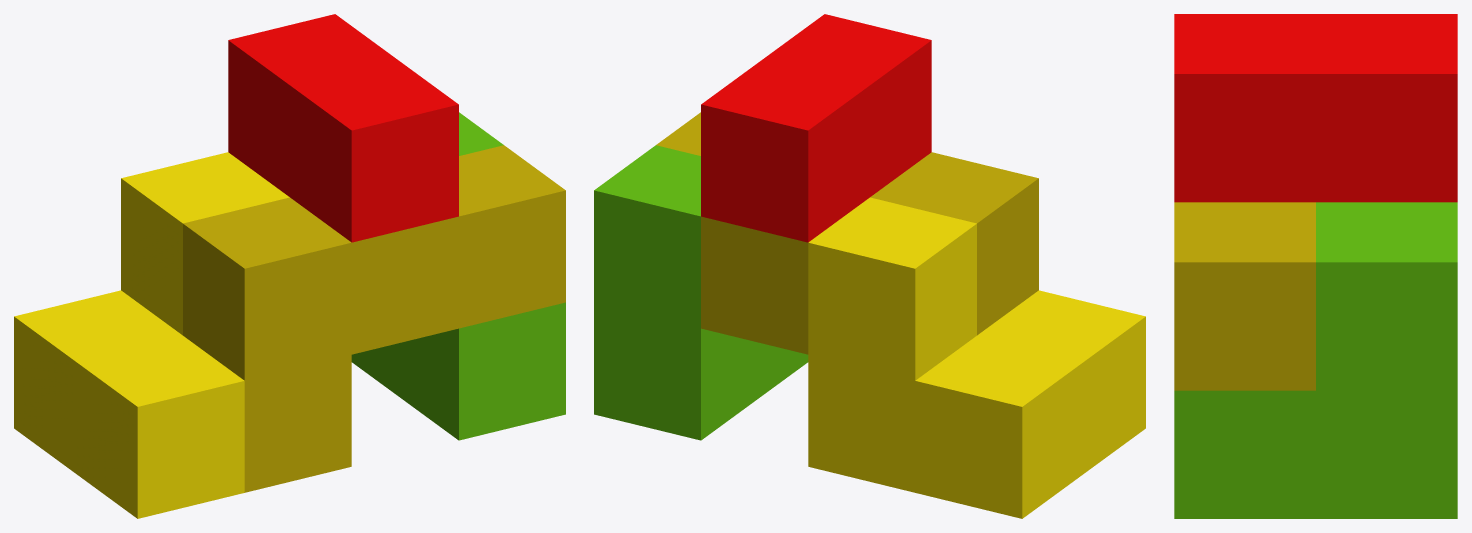
3 renders of one model, left to right at view 1: azimuth 30°, elevation 25°; view 2: azimuth 150°, elevation 25°; view 3: azimuth 270°, elevation 25°, orthographic. The views are drawn at different scales.
Visible parts, largest first — view 1: mergedBlocks(Clone); view 2: mergedBlocks(Clone); view 3: mergedBlocks(Clone).
Part boxes in pixels (box(x1,y1,x2,y2)): mergedBlocks(Clone): box(14, 14, 565, 518); mergedBlocks(Clone): box(594, 14, 1145, 518); mergedBlocks(Clone): box(1174, 14, 1457, 518).
Bounding box in the file's own units: 4 × 3 × 2.
Materials: 4 (4 with a texture image).
